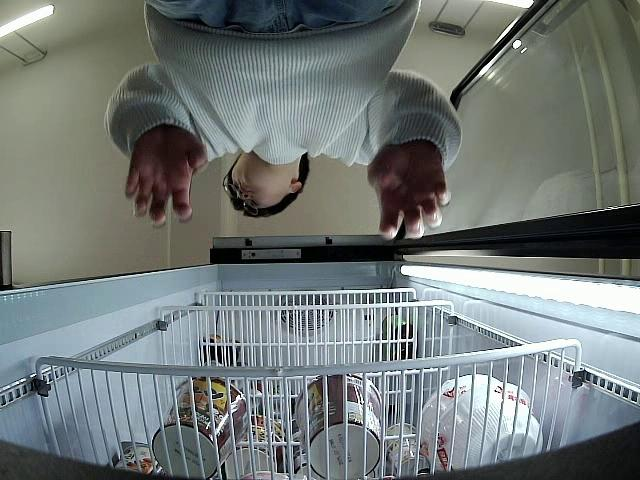00_hand: (368, 142, 450, 241), (125, 127, 209, 223)
